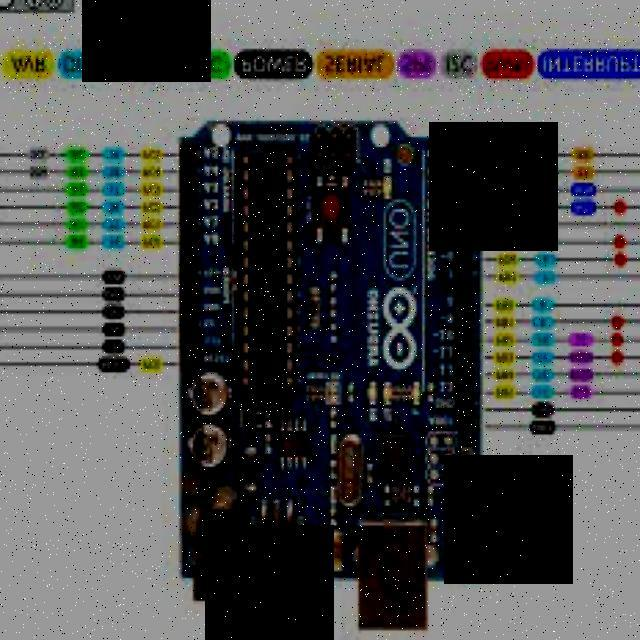arduino: (180, 123, 484, 587)
